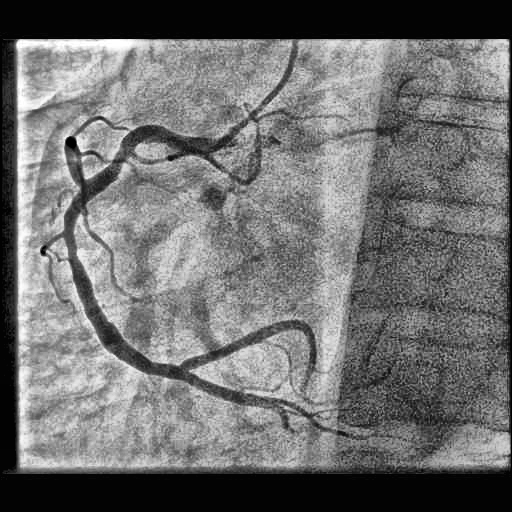pborca: (181, 320, 316, 403)
pda: (183, 372, 282, 412)
rca: (63, 125, 201, 380)
